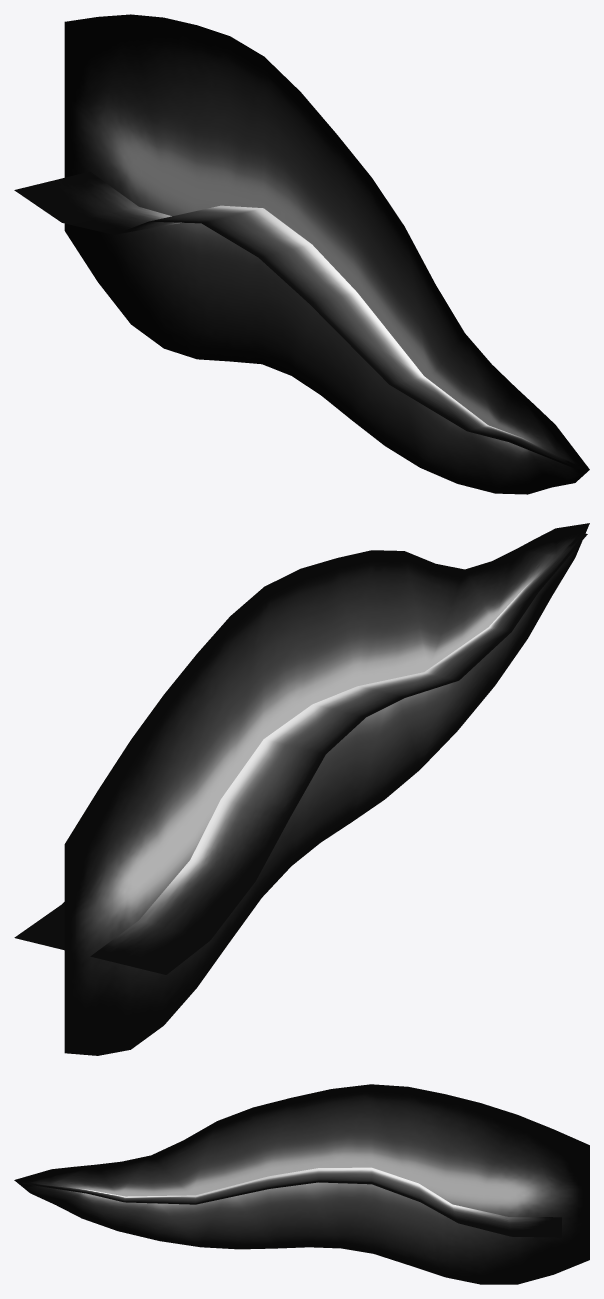
Rendered from FX_lfl_assa_wuqi341_guang02.FBX.
3 views of the same model, one above another, from view 1: azimuth 30°, elevation 25°; view 2: azimuth 150°, elevation 25°; view 3: azimuth 270°, elevation 25° (orthographic). The views are drawn at different scales.
Visible parts, largest first — view 1: Plane001; view 2: Plane001; view 3: Plane001.
Part boxes in pixels (x1=…): Plane001: x1=14, y1=14, x2=589, y2=494; Plane001: x1=14, y1=523, x2=589, y2=1055; Plane001: x1=14, y1=1084, x2=589, y2=1284.
Size of the model in its own units: 11.23 by 25.73 by 67.01.
1 material, 1 textured.
